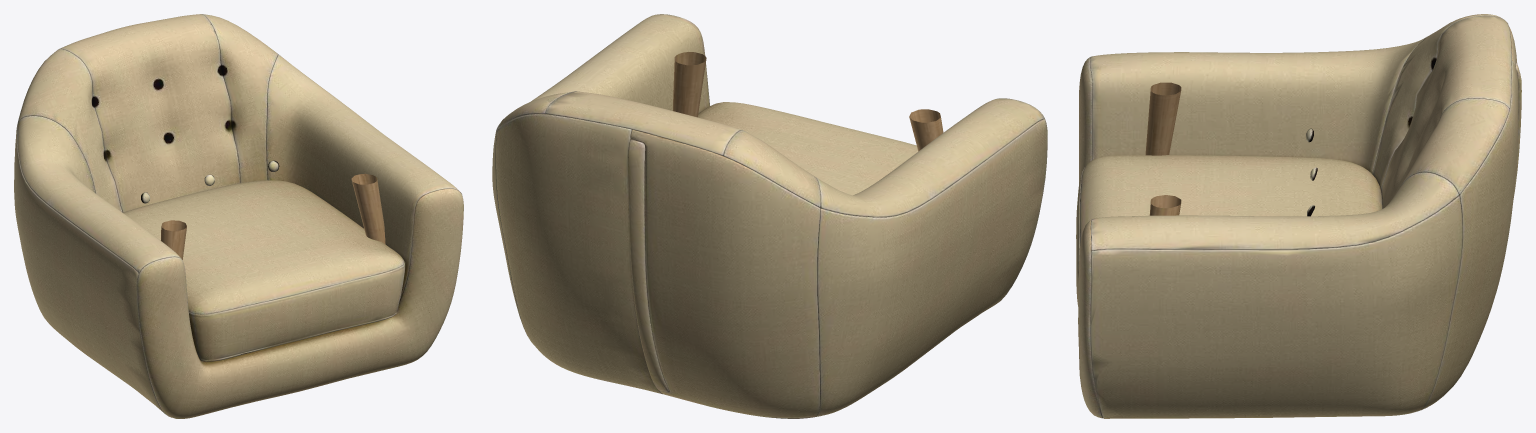
Rendered from armchair.glb.
3 renders of one model, left to right at view 1: azimuth 30°, elevation 25°; view 2: azimuth 150°, elevation 25°; view 3: azimuth 270°, elevation 25°, orthographic. The views are drawn at different scales.
Parts seen in each view (by area): view 1: PEARL_GREY, LEGS; view 2: PEARL_GREY, LEGS; view 3: PEARL_GREY, LEGS.
Boxes of the visible parts, x1=… form: PEARL_GREY: x1=14, y1=14, x2=463, y2=418; LEGS: x1=161, y1=173, x2=385, y2=259; PEARL_GREY: x1=492, y1=14, x2=1047, y2=418; LEGS: x1=673, y1=52, x2=943, y2=151; PEARL_GREY: x1=1076, y1=14, x2=1521, y2=418; LEGS: x1=1145, y1=82, x2=1181, y2=215.
Bounding box in the file's own units: 1801136 × 1298125 × 1751115.
Materials: 2 (2 with a texture image).
